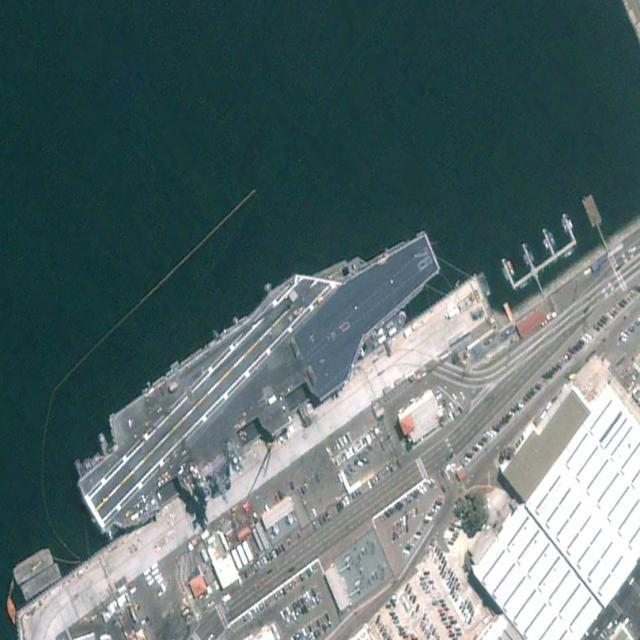Aircraft Carrier: (60, 187, 455, 562)
